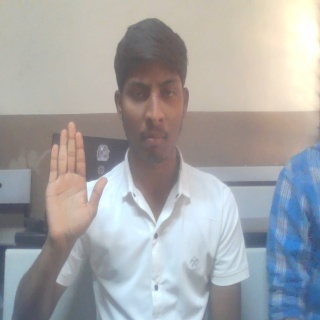Face: (110, 17, 192, 168)
Hello: (42, 120, 109, 249)
